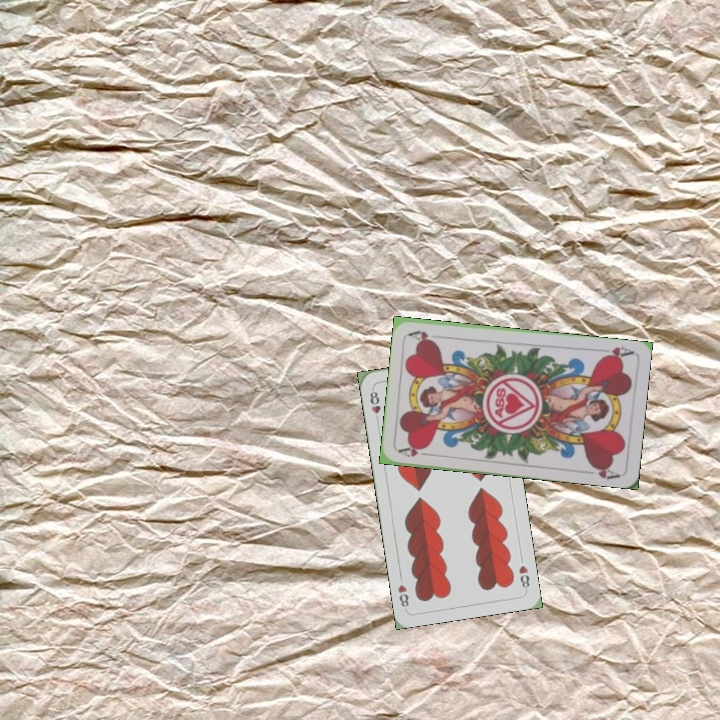H8: (366, 385, 383, 425), (514, 561, 532, 593)
HA: (595, 342, 635, 362), (395, 442, 435, 460)
